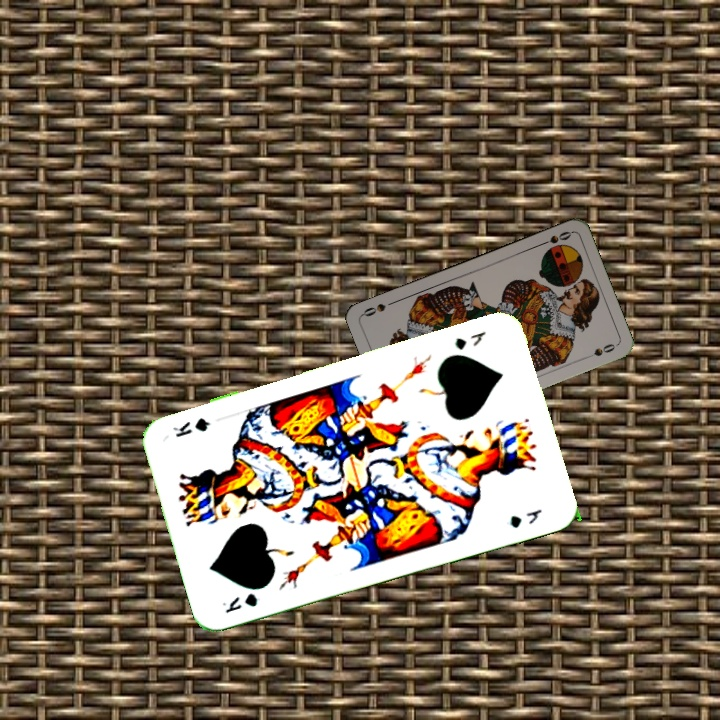GK: (217, 589, 260, 616), (451, 327, 489, 353)
SO: (535, 227, 574, 249)
